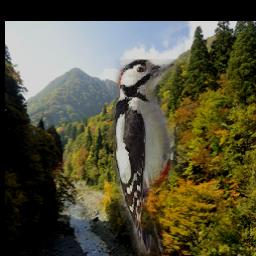Woodpecker: (112, 59, 187, 256)
